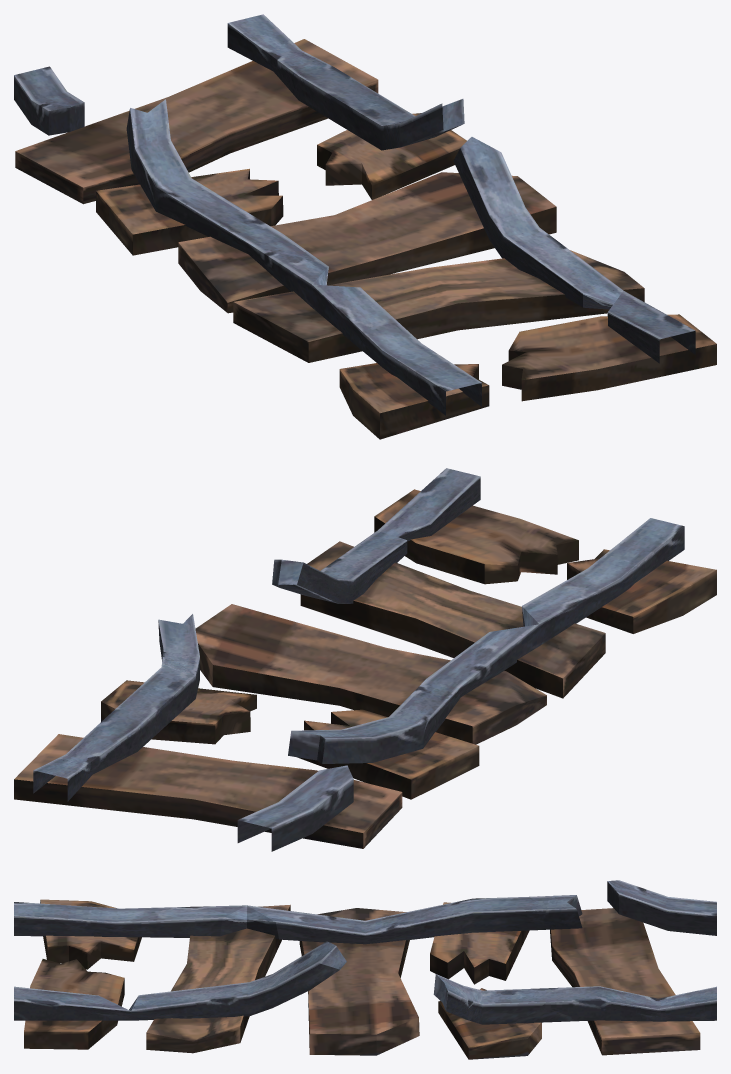
The model's file is mine_track_broken.fbx.
3 renders of one model, top to bottom at view 1: azimuth 30°, elevation 25°; view 2: azimuth 150°, elevation 25°; view 3: azimuth 270°, elevation 25°, orthographic. The views are drawn at different scales.
Parts seen in each view (by area): view 1: mine_rails/mine_rails01; view 2: mine_rails/mine_rails01; view 3: mine_rails/mine_rails01.
Part boxes in pixels (x1=…): mine_rails/mine_rails01: x1=14, y1=14, x2=716, y2=439; mine_rails/mine_rails01: x1=14, y1=468, x2=716, y2=851; mine_rails/mine_rails01: x1=14, y1=880, x2=716, y2=1059.
Size of the model in its own units: 1.9 by 0.5274 by 4.
